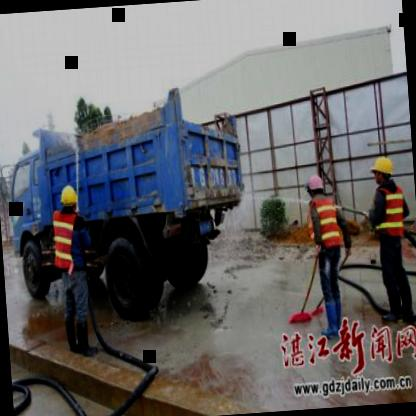helmet: (367, 152, 396, 196), (56, 184, 80, 219), (304, 172, 327, 206)
